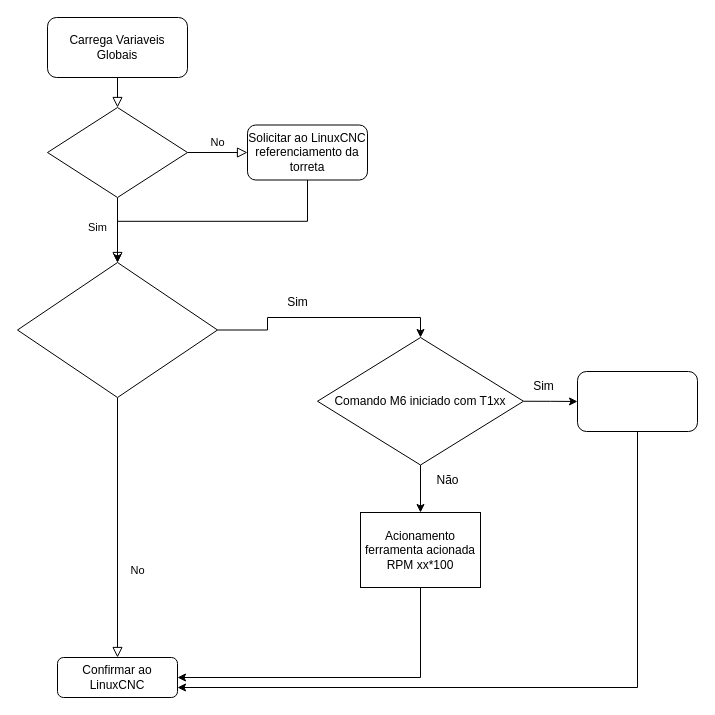
The diagram is 715 pixels wide and 715 high, and some of its shapes have lost their labels. Each missing label, with the centre of its shape:
"Acionamento Turreta ferramenta xx" goes at [637,401].
"Existe Posição salva na EEPROM" goes at [117,152].
"Há solicitação de reposicionamento de Torreta?" goes at [117,330].
